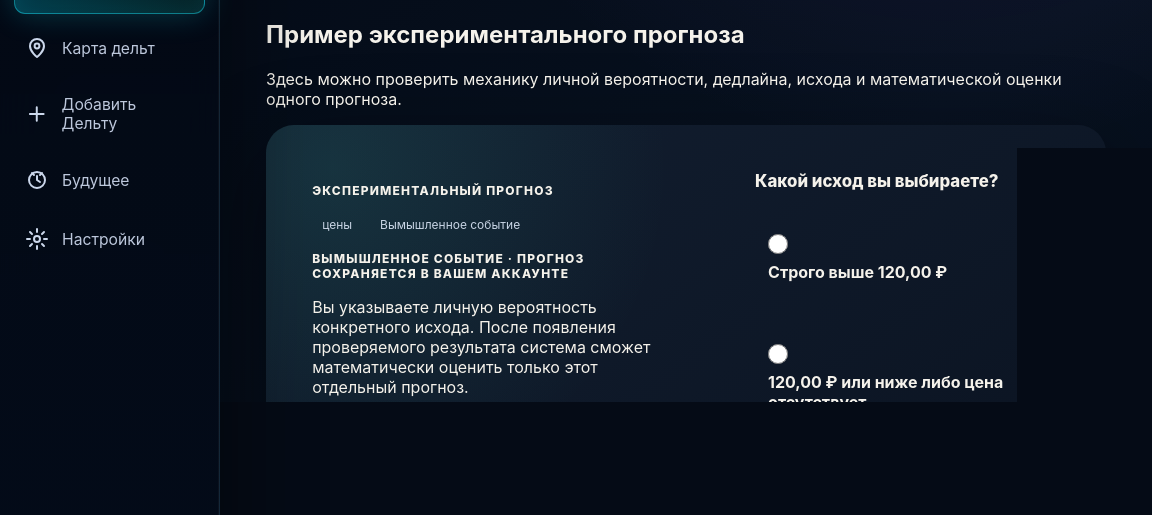
Test: production ForecastPage › sends 50% as 0.5 and replaces assumptions with the server response and timestamp
(page scrolled)
Click the radio button labelled "Строго выше 120,00 ₽": (778,244) [768,234,788,254]
(page scrolled)
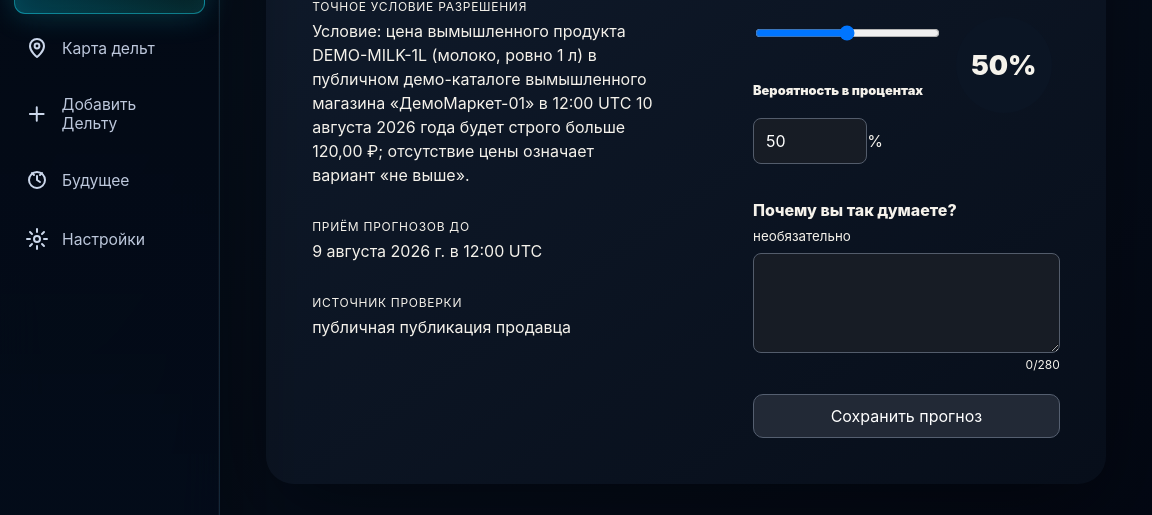
Click the button "Сохранить прогноз": (906,416) [753,394,1060,438]
(page scrolled)
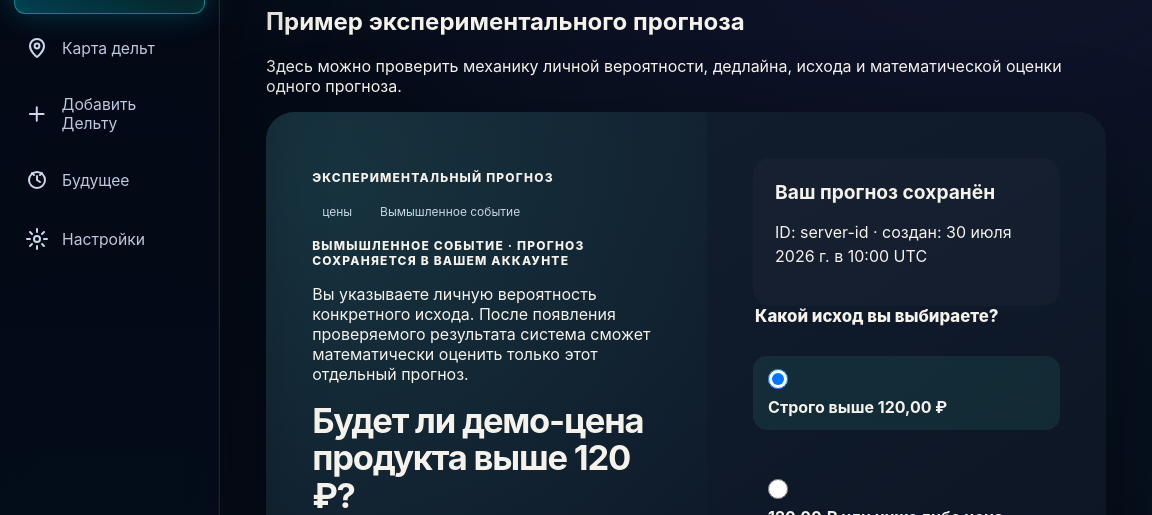
Expected: the text "ID: server-id · создан: 30 июля 2026 г. в 10:00 UTC" is shown, [775,220,1038,268]
